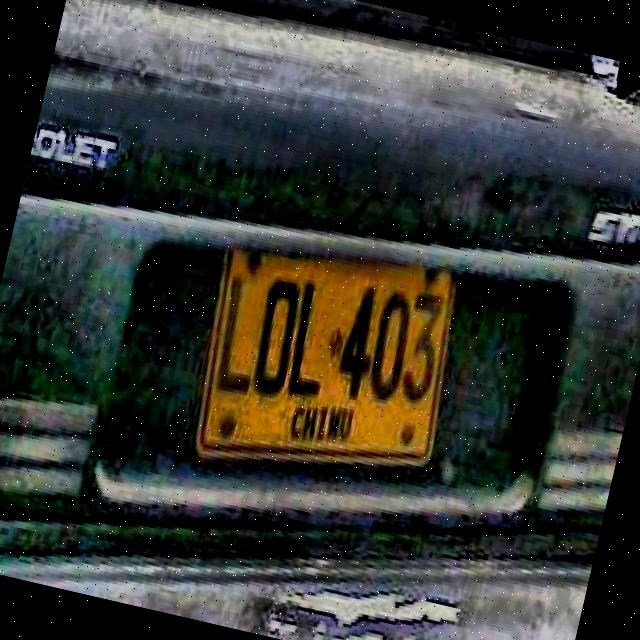0: (367, 289, 413, 406)
3: (398, 291, 447, 409)
4: (333, 286, 379, 405)
L: (213, 275, 266, 397), (286, 280, 325, 400)
O: (251, 277, 303, 400)
